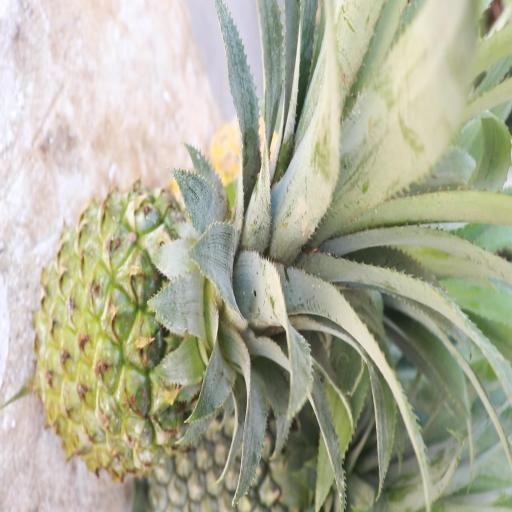------------------------------: (39, 179, 276, 491)
